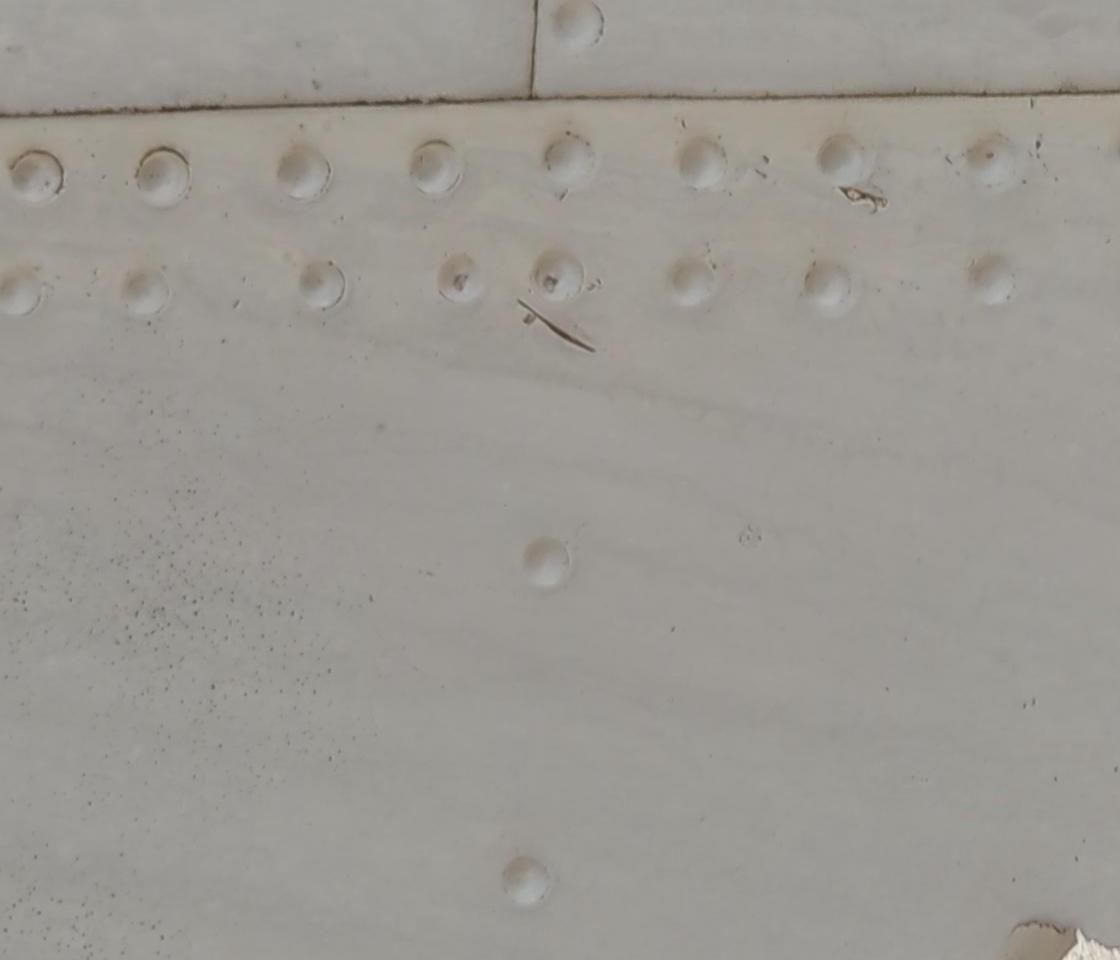scratch: (510, 293, 608, 358)
